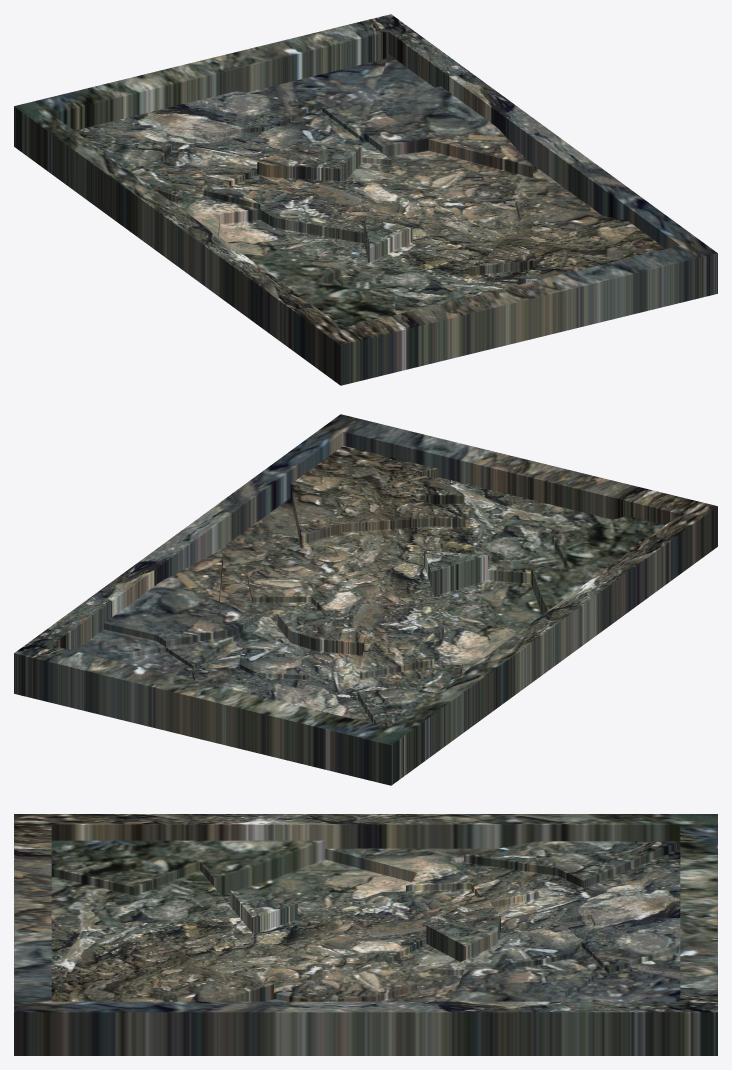
The model's file is suelocueva22.fbx.
3 views of the same model, one above another, from view 1: azimuth 30°, elevation 25°; view 2: azimuth 150°, elevation 25°; view 3: azimuth 270°, elevation 25° (orthographic). The views are drawn at different scales.
Parts seen in each view (by area): view 1: Plano; view 2: Plano; view 3: Plano.
Boxes of the visible parts, x1,y1,x2,y2 form: Plano: (14, 14, 717, 385); Plano: (14, 414, 717, 785); Plano: (14, 814, 717, 1055).
Size of the model in its own units: 2000 by 205 by 3000.
Materials: 1 (1 with a texture image).
